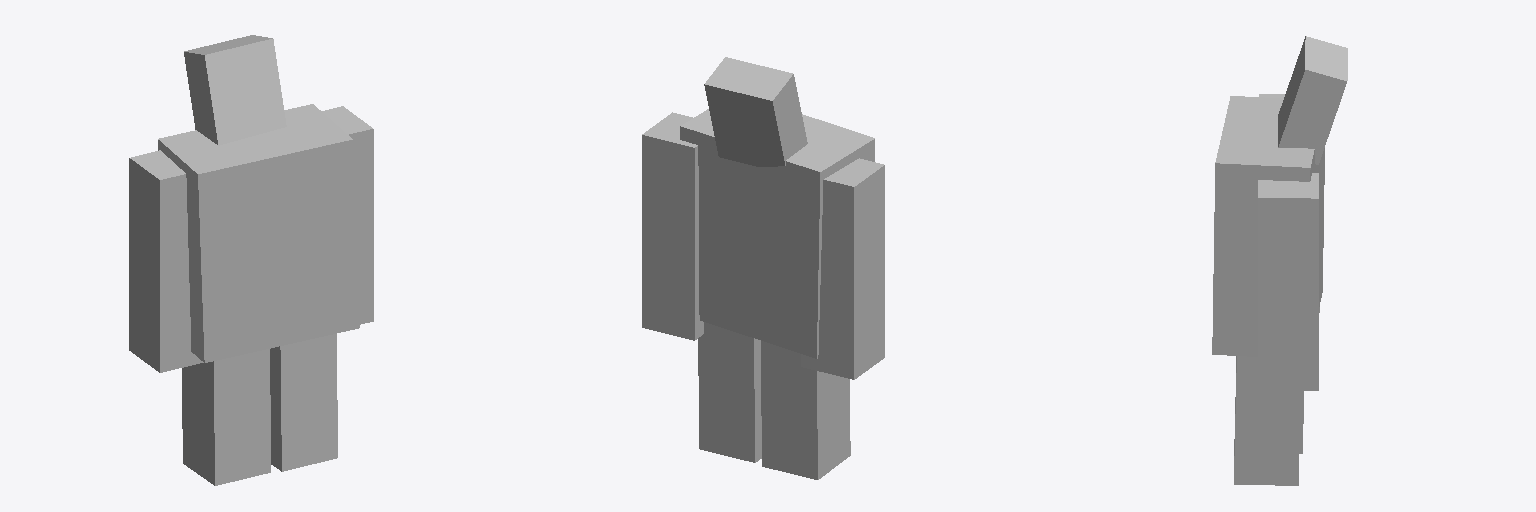
File: walk_000030.obj
3 renders of one model, left to right at view 1: azimuth 30°, elevation 25°; view 2: azimuth 150°, elevation 25°; view 3: azimuth 270°, elevation 25°, orthographic.
Parts seen in each view (by area): view 1: Cube, leg.003_Cube.002, leg_Cube.001, Cube.001_Cube.003, leg.001_Cube.007, leg.002_Cube.006; view 2: Cube, leg.003_Cube.002, leg.002_Cube.006, leg_Cube.001, leg.001_Cube.007, Cube.001_Cube.003, Plane.002; view 3: Cube, leg.002_Cube.006, leg.001_Cube.007, Cube.001_Cube.003.
Boxes of the visible parts, x1,y1,x2,y2 form: Cube: [158, 104, 359, 362]; leg.003_Cube.002: [129, 150, 203, 372]; leg_Cube.001: [182, 349, 270, 485]; Cube.001_Cube.003: [184, 35, 286, 145]; leg.001_Cube.007: [270, 334, 337, 471]; leg.002_Cube.006: [322, 106, 373, 324]; Cube: [680, 109, 874, 358]; leg.003_Cube.002: [801, 158, 884, 379]; leg.002_Cube.006: [642, 112, 703, 340]; leg_Cube.001: [761, 341, 850, 479]; leg.001_Cube.007: [698, 322, 761, 462]; Cube.001_Cube.003: [704, 57, 807, 166]; Plane.002: [724, 129, 773, 164]; Cube: [1212, 96, 1324, 356]; leg.002_Cube.006: [1258, 173, 1318, 390]; leg.001_Cube.007: [1234, 356, 1300, 485]; Cube.001_Cube.003: [1278, 36, 1347, 164].
Bounding box in the file's own units: 3.47 × 6.25 × 1.91.